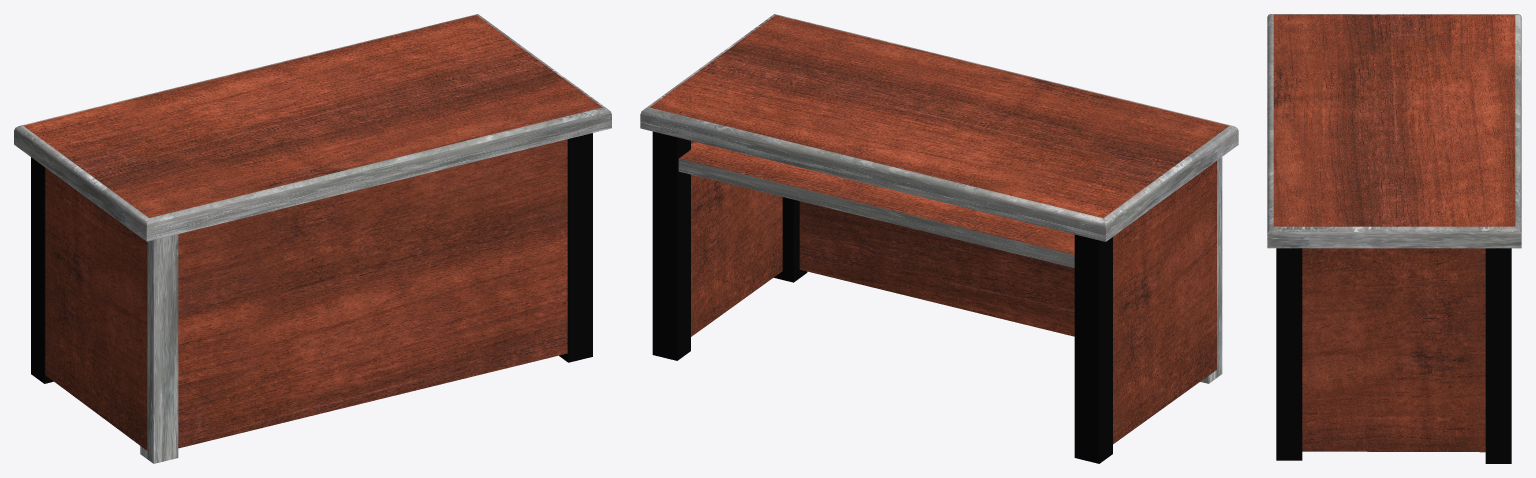
File: Teacher_Desk_Textured.fbx
3 renders of one model, left to right at view 1: azimuth 30°, elevation 25°; view 2: azimuth 150°, elevation 25°; view 3: azimuth 270°, elevation 25°, orthographic. The views are drawn at different scales.
Visible parts, largest first — view 1: pCube8, pCube2, pCube9, pCube5, pCube6, pCube4; view 2: pCube2, pCube9, pCube8, pCube7, pCube10, pCube4, pCube3, pCube6, pCube5; view 3: pCube2, pCube10, pCube3, pCube6.
Boxes of the visible parts, x1,y1,x2,y2 form: pCube8: (178,139,567,448); pCube2: (14,14,611,241); pCube9: (45,168,147,450); pCube5: (140,234,178,463); pCube6: (559,133,592,362); pCube4: (31,157,53,383); pCube2: (640,14,1238,241); pCube9: (1113,161,1216,444); pCube8: (799,201,1074,336); pCube7: (678,142,1074,267); pCube10: (691,141,782,336); pCube4: (1074,234,1112,463); pCube3: (652,131,690,360); pCube6: (773,197,807,282); pCube5: (1200,157,1222,383); pCube2: (1267,14,1521,248); pCube10: (1302,248,1485,452); pCube3: (1485,248,1511,463); pCube6: (1276,248,1302,460).
Bounding box in the file's own units: 1.51 × 0.7692 × 0.7451.
4 materials, 2 textured.
